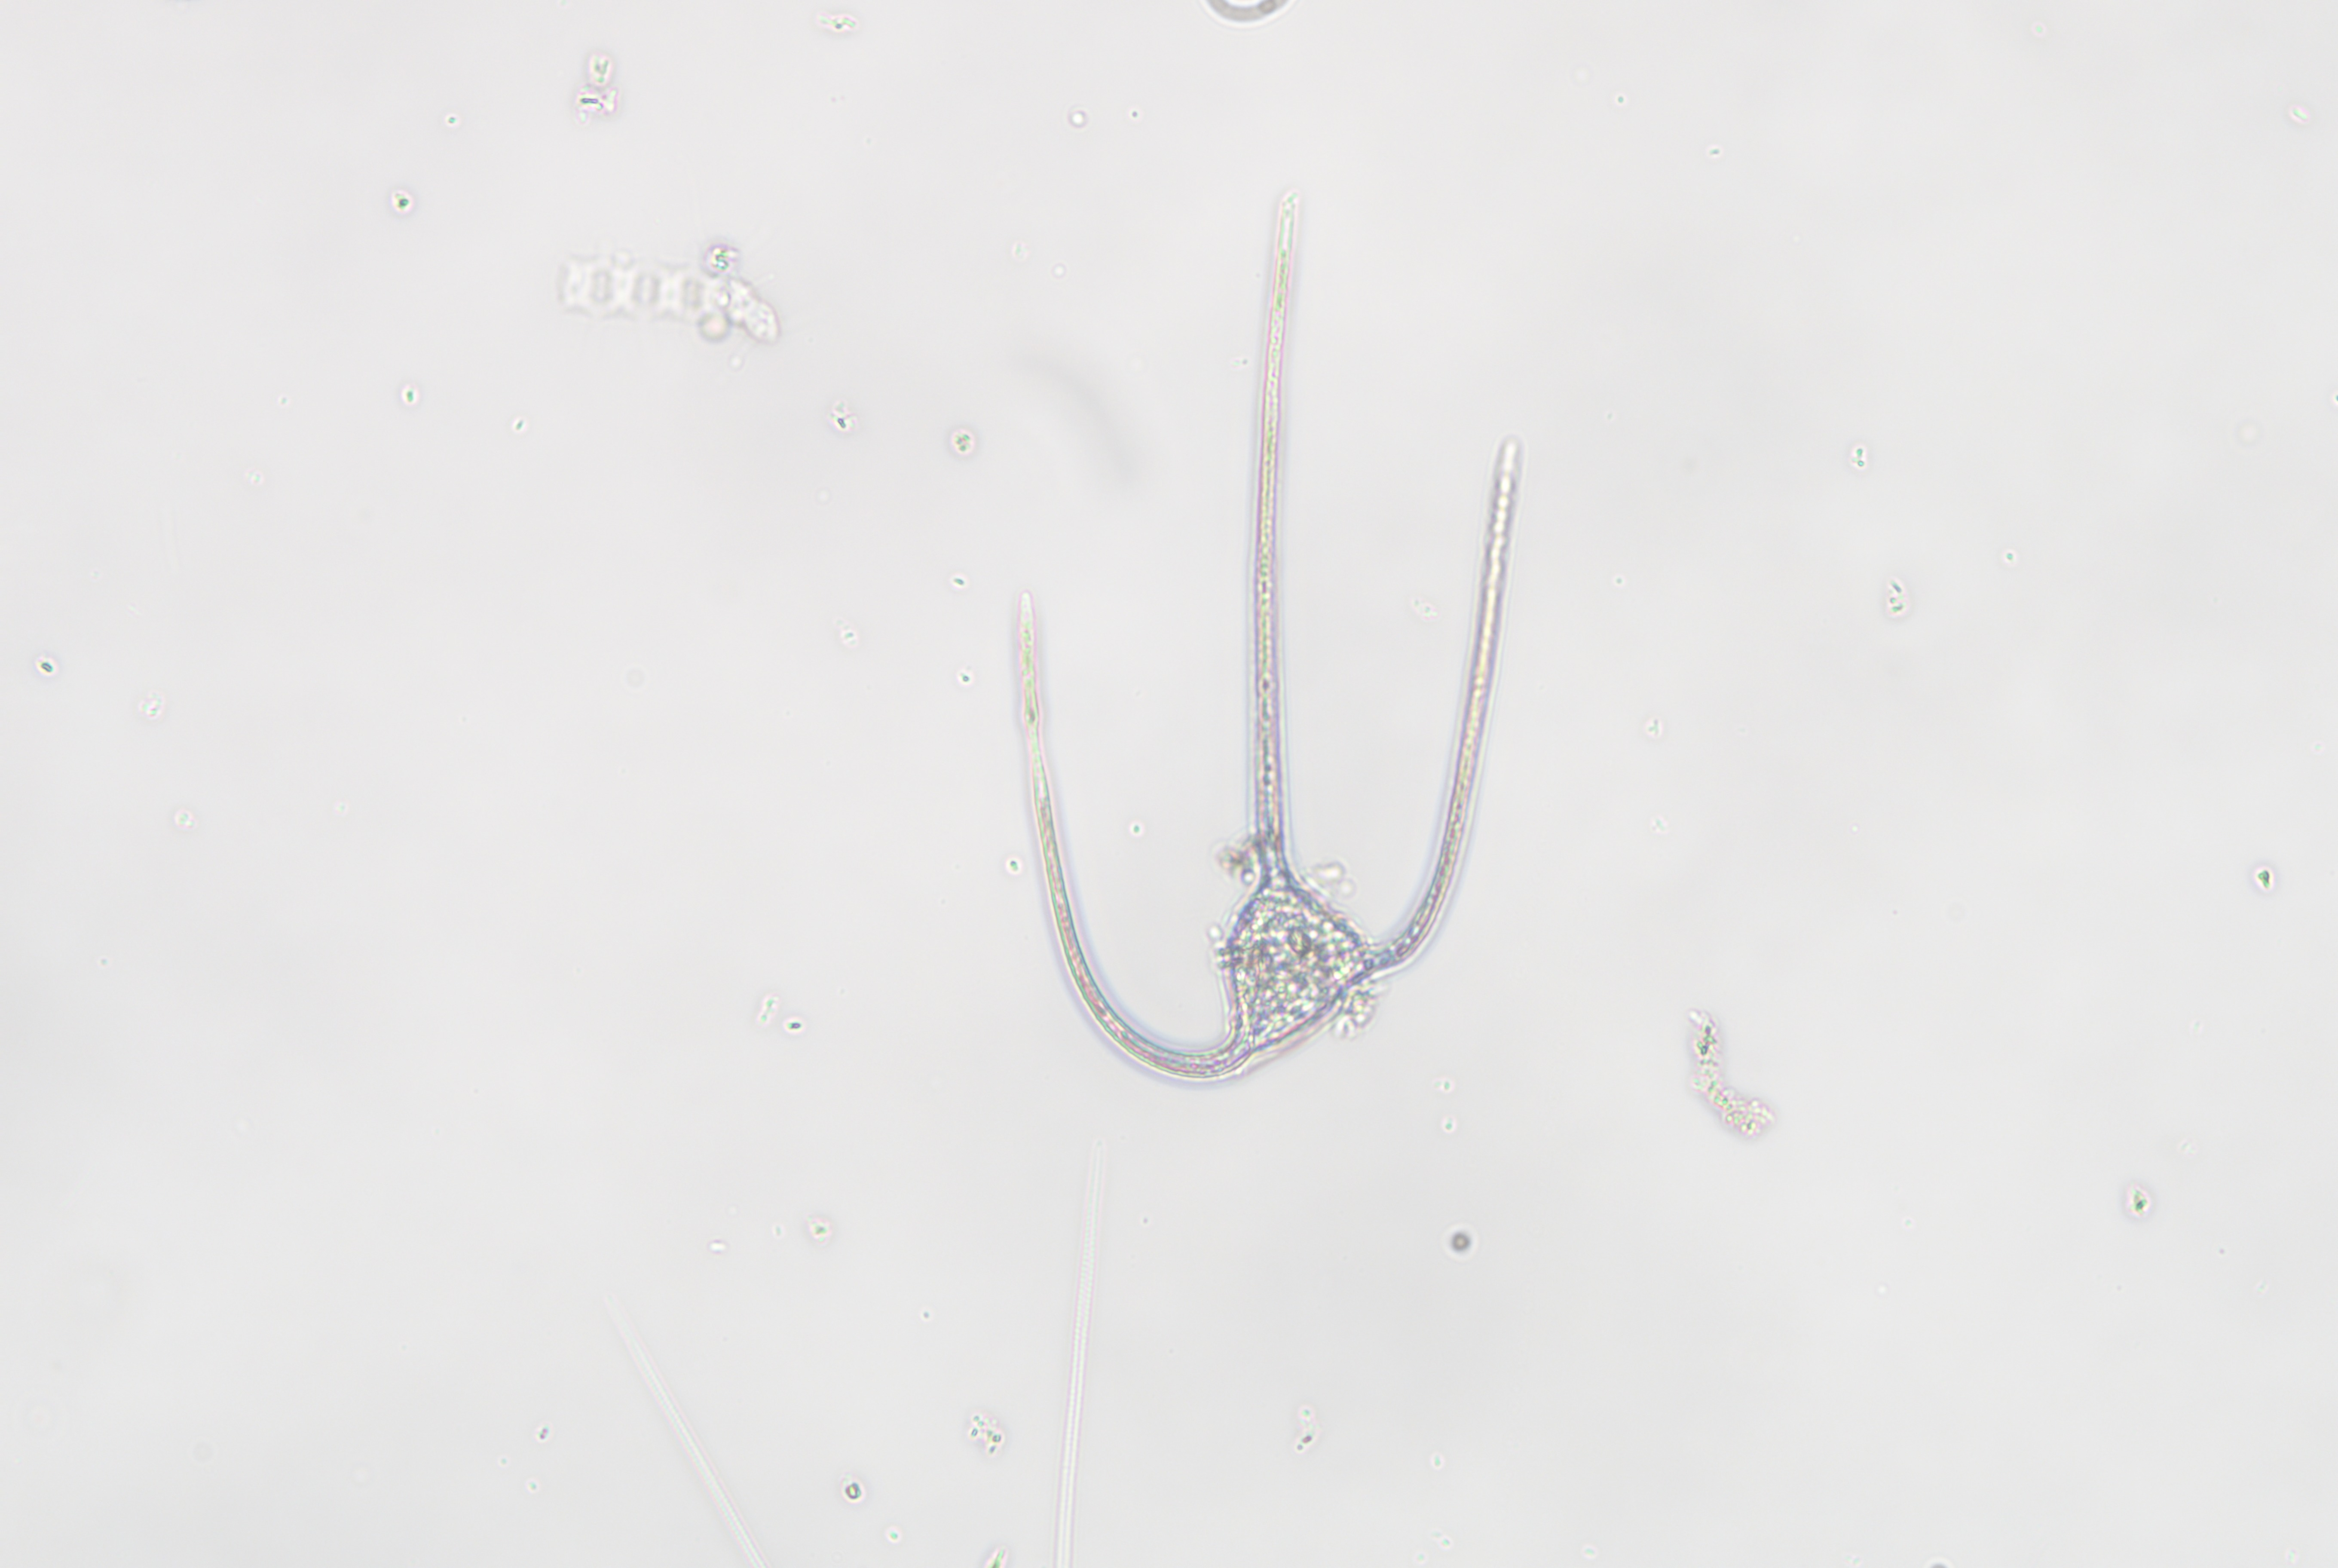ceratium trichoceros: (1018, 187, 1521, 1080)
